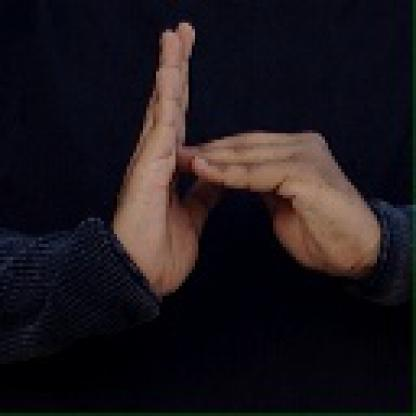Z: (96, 21, 361, 302)
